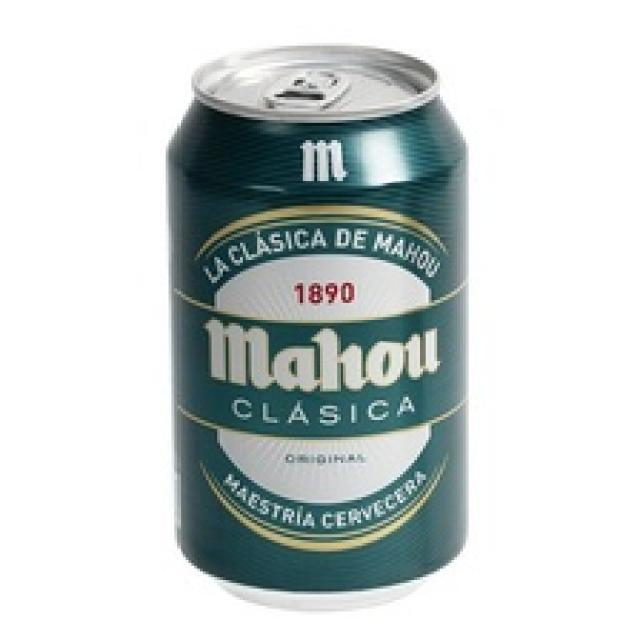recyclable: (167, 43, 470, 615)
